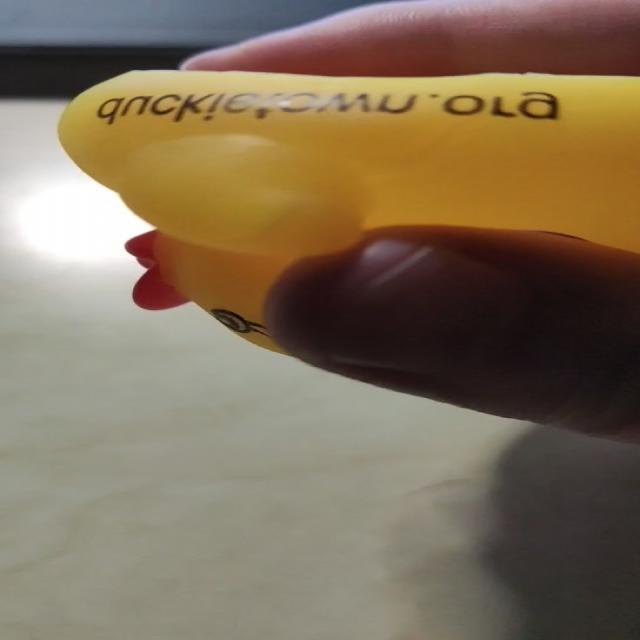rubber-duck: (58, 70, 638, 349)
